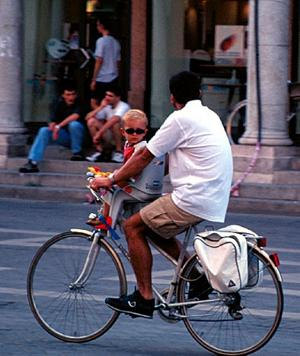person: (91, 71, 236, 318)
